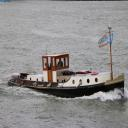tugboat: (8, 20, 127, 104)
